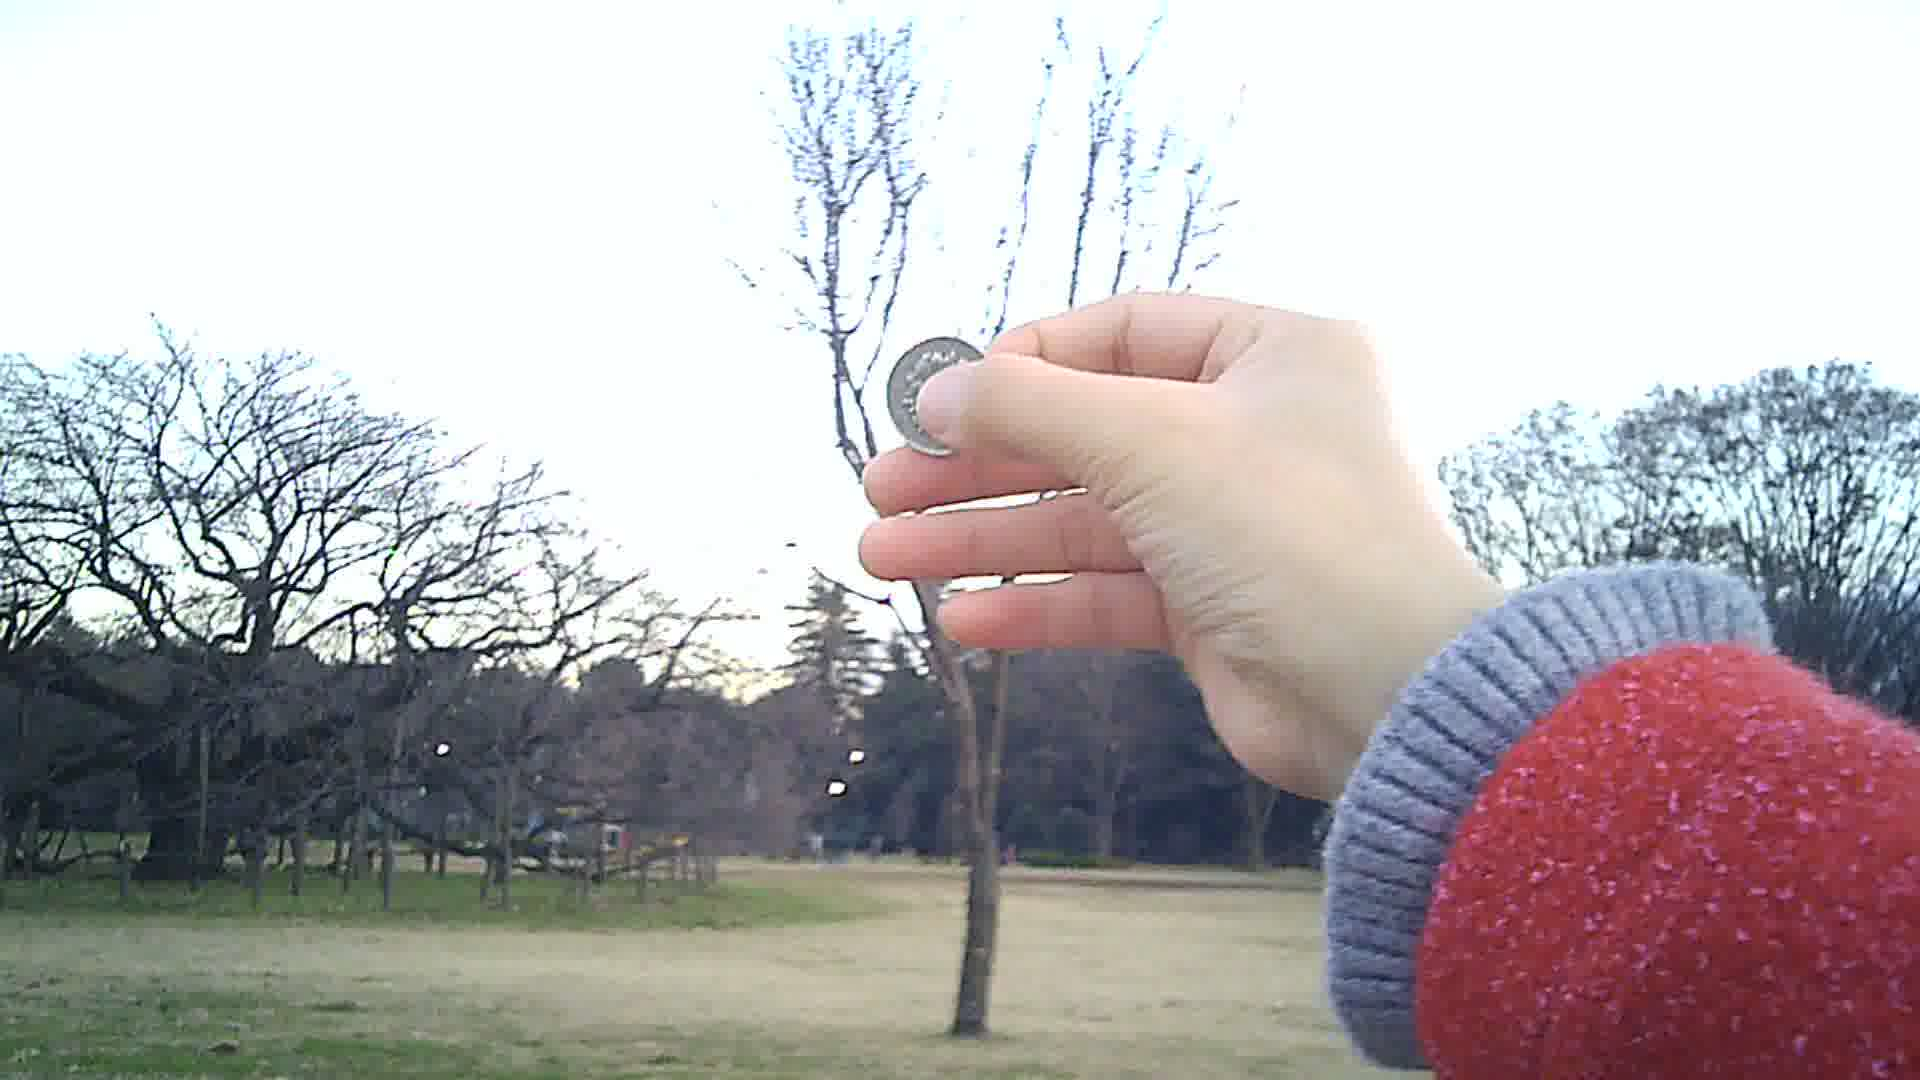100 Yen: (884, 334, 982, 451)
